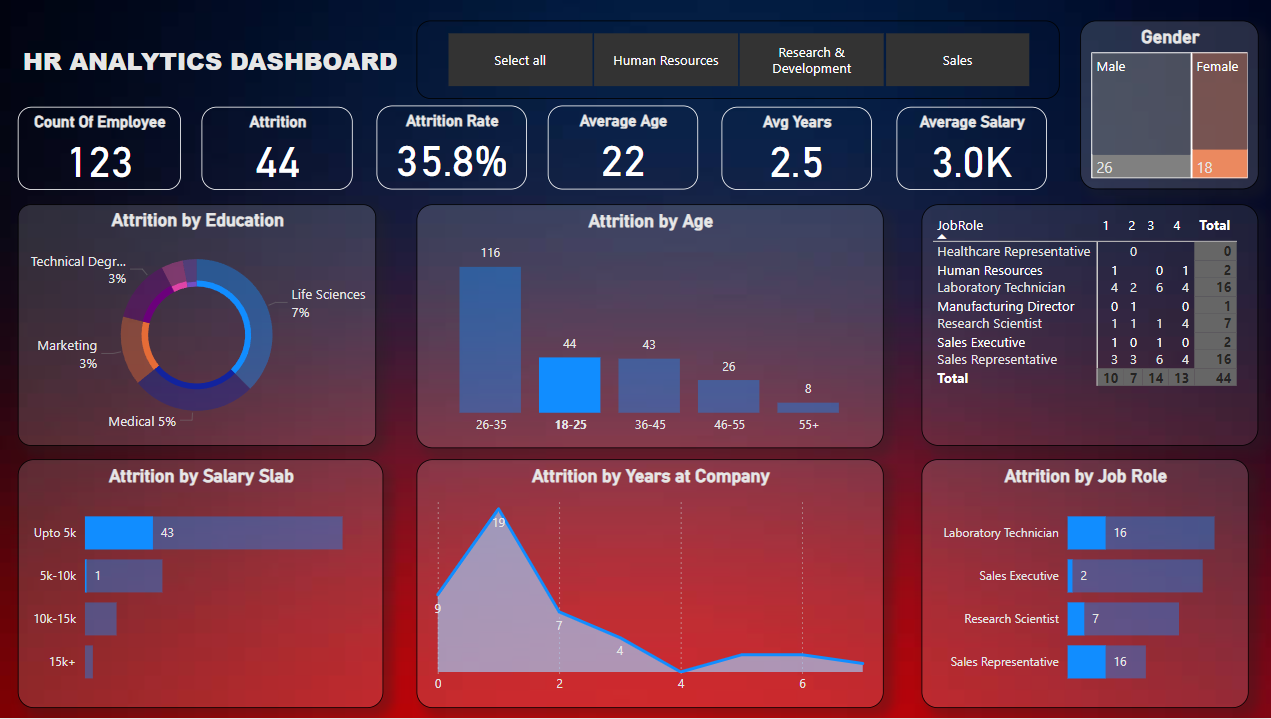

The dashboard page shown, as its layout file describes it:
{"tool":"powerbi","page":{"name":"Page 1","canvas":[1280,720],"ordinal":0},"visuals":[{"type":"card","title":"Count Of Employee","fields":{"Values":["CountNonNull(HR_Analytics.EmpID)"]},"box":[24.3,108.6,162.9,82.9],"z":0},{"type":"card","title":"Attrition","fields":{"Values":["Sum(HR_Analytics.AttritionCount)"]},"box":[207.1,108.6,151.4,82.9],"z":1000},{"type":"card","title":"Attrition Rate","fields":{"Values":["HR_Analytics.AttritionRate"]},"box":[382.9,107.1,150,84.3],"z":2000},{"type":"card","title":"Average Age","fields":{"Values":["Avg(HR_Analytics.Age)"]},"box":[554.3,107.1,150,84.3],"z":3000},{"type":"card","title":"Avg Years","fields":{"Values":["Avg(HR_Analytics.YearsAtCompany)"]},"box":[727.1,108.6,150,82.9],"z":4000},{"type":"card","title":"Average Salary","fields":{"Values":["Avg(HR_Analytics.MonthlyIncome)"]},"box":[902.9,108.6,150,82.9],"z":5000},{"type":"donutChart","title":"Attrition by Education","fields":{"Category":["HR_Analytics.EducationField"],"Y":["Sum(HR_Analytics.AttritionCount)"]},"box":[24.3,205.7,358.6,241.4],"z":6000},{"type":"columnChart","title":"Attrition by Age","fields":{"Category":["HR_Analytics.AgeGroup"],"Y":["Sum(HR_Analytics.AttritionCount)"]},"box":[422.9,205.7,467.1,244.3],"z":7000},{"type":"pivotTable","fields":{"Values":["Sum(HR_Analytics.AttritionCount)"],"Columns":["HR_Analytics.EnvironmentSatisfaction"],"Rows":["HR_Analytics.JobRole"]},"box":[927.1,205.7,337.1,241.4],"z":8000},{"type":"barChart","title":"Attrition by Salary Slab","fields":{"Category":["HR_Analytics.SalarySlab"],"Y":["Sum(HR_Analytics.AttritionCount)"]},"box":[24.3,461.4,365.7,248.6],"z":9000},{"type":"barChart","title":"Attrition by Job Role","fields":{"Category":["HR_Analytics.JobRole"],"Y":["Sum(HR_Analytics.AttritionCount)"]},"box":[927.1,461.4,327.1,248.6],"z":10000},{"type":"stackedAreaChart","title":"Attrition by Years at Company","fields":{"Category":["HR_Analytics.YearsAtCompany"],"Y":["Sum(HR_Analytics.AttritionCount)"]},"box":[422.9,461.4,467.1,248.6],"z":11000},{"type":"treemap","title":"Gender","fields":{"Group":["HR_Analytics.Gender"],"Values":["Sum(HR_Analytics.AttritionCount)"]},"box":[1085.7,22.9,178.6,168.6],"z":12000},{"type":"slicer","fields":{"Values":["HR_Analytics.Department"]},"box":[422.9,22.9,642.9,78.6],"z":13000},{"type":"textbox","box":[24.3,41.4,402.9,60],"z":13001}]}

Visuals, with their boxes in screenshot pixels (x1, y1, x2, y2), scaled from the page's 1280x720 canvas onto the 1271x719 screenshot:
"Count Of Employee" card: box(24, 108, 186, 191)
"Attrition" card: box(206, 108, 356, 191)
"Attrition Rate" card: box(380, 107, 529, 191)
"Average Age" card: box(550, 107, 699, 191)
"Avg Years" card: box(722, 108, 871, 191)
"Average Salary" card: box(897, 108, 1045, 191)
"Attrition by Education" donutChart: box(24, 205, 380, 446)
"Attrition by Age" columnChart: box(420, 205, 884, 449)
pivotTable - Sum(HR_Analytics.AttritionCount) x HR_Analytics.EnvironmentSatisfaction: box(921, 205, 1255, 446)
"Attrition by Salary Slab" barChart: box(24, 461, 387, 709)
"Attrition by Job Role" barChart: box(921, 461, 1245, 709)
"Attrition by Years at Company" stackedAreaChart: box(420, 461, 884, 709)
"Gender" treemap: box(1078, 23, 1255, 191)
slicer - HR_Analytics.Department: box(420, 23, 1058, 101)
textbox: box(24, 41, 424, 101)
